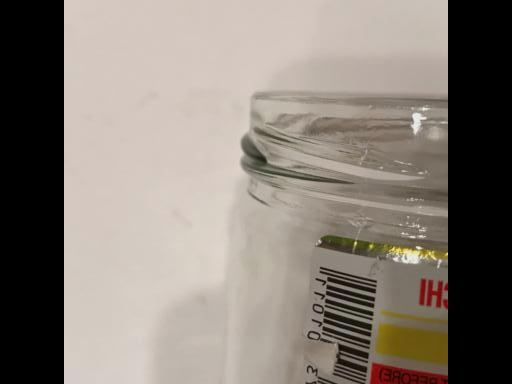glass: (239, 90, 448, 384)
